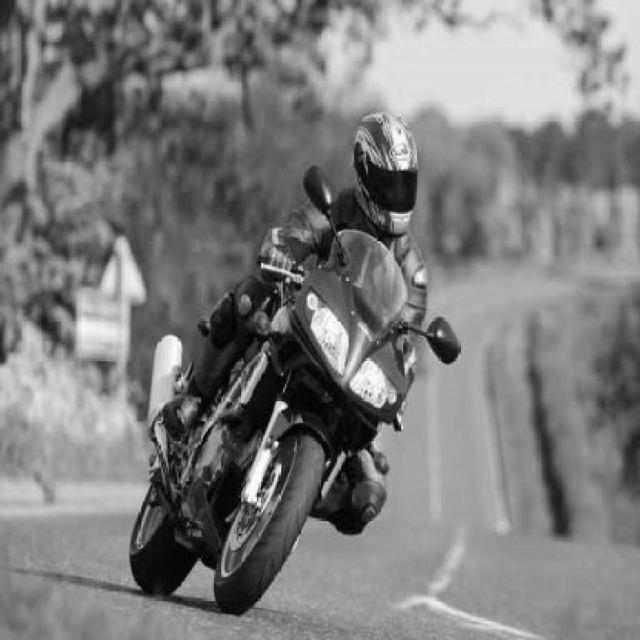Motorbike: (128, 114, 462, 618)
